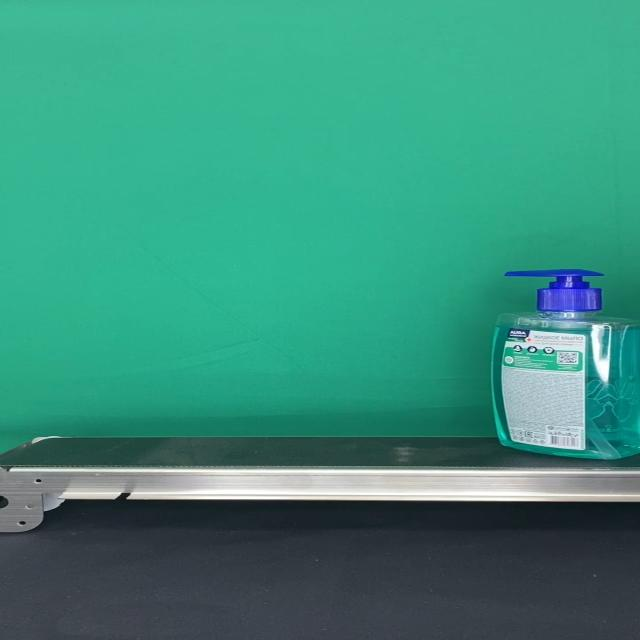Bottle: (490, 269, 640, 459)
Cap: (505, 270, 605, 312)
